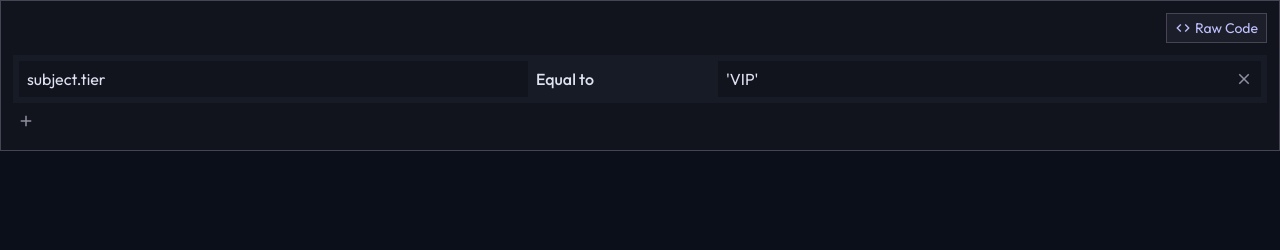
Test: ConditionBuilder Component › adds and removes clauses and switches clause logic between AND and OR
Click the button with test id "add-clause-btn". click: (26, 120)
box: left=13, top=103, right=39, bottom=138
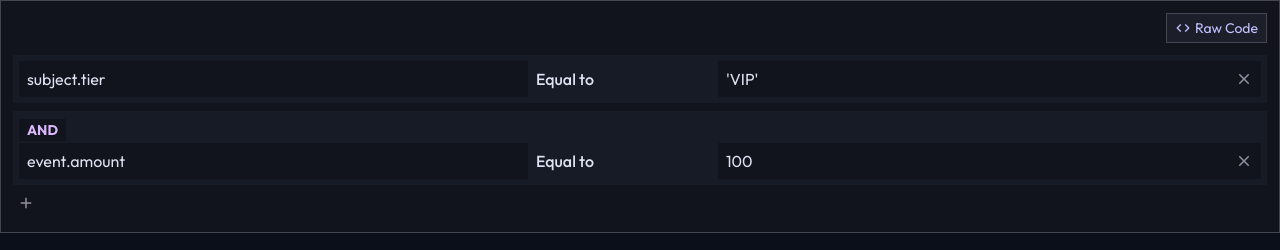
Select "OR" in the dropdown with test id "clause-logic-1". click: (42, 130)
box: left=19, top=119, right=66, bottom=141
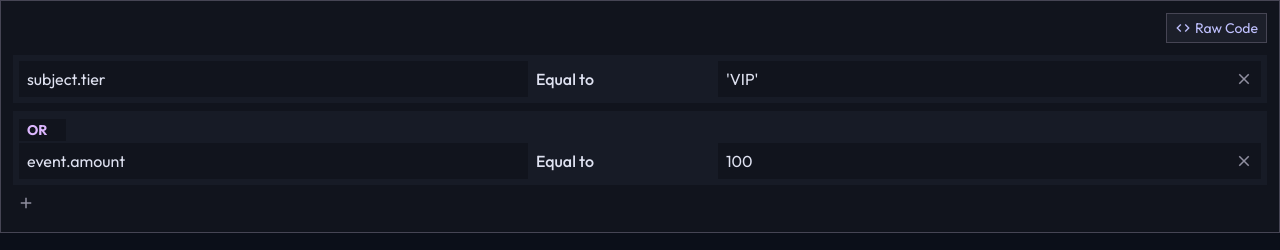
Click the button with test id "remove-clause-btn-1". click: (1244, 161)
box: left=1227, top=143, right=1261, bottom=179
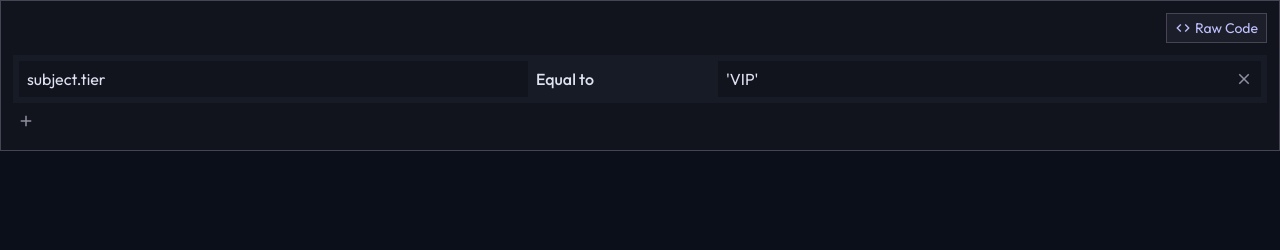
Now the element with test id "clause-row-1" is gone
